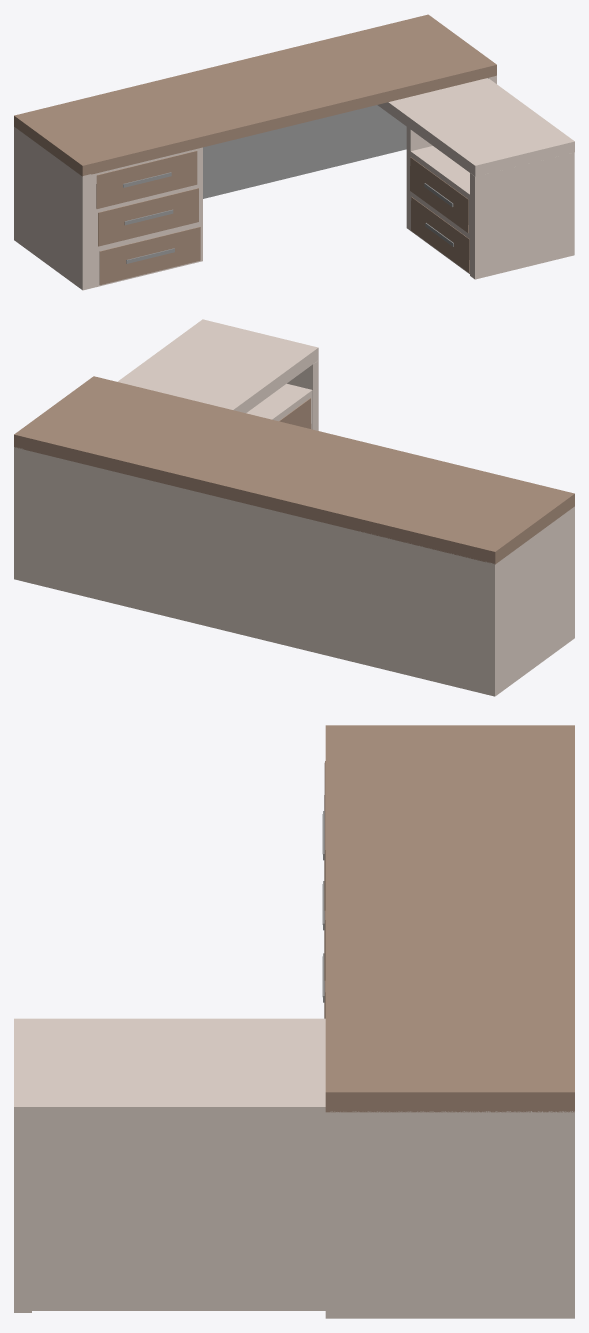
The model's file is Table_7.fbx.
The picture shows the model from 3 angles, top to bottom: view 1: azimuth 30°, elevation 25°; view 2: azimuth 150°, elevation 25°; view 3: azimuth 270°, elevation 25°; orthographic projection. The views are drawn at different scales.
Parts seen in each view (by area): view 1: Table_7; view 2: Table_7; view 3: Table_7.
Part boxes in pixels (left/top/right/bottom): Table_7: left=14, top=14, right=574, bottom=290; Table_7: left=14, top=319, right=574, bottom=696; Table_7: left=14, top=725, right=574, bottom=1318.
Bounding box in the file's own units: 347 × 224 × 101.
